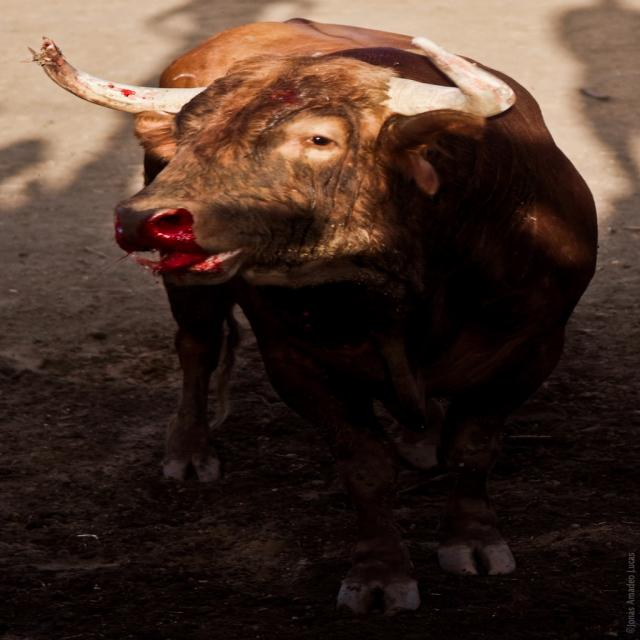Deer: (23, 16, 604, 616)
